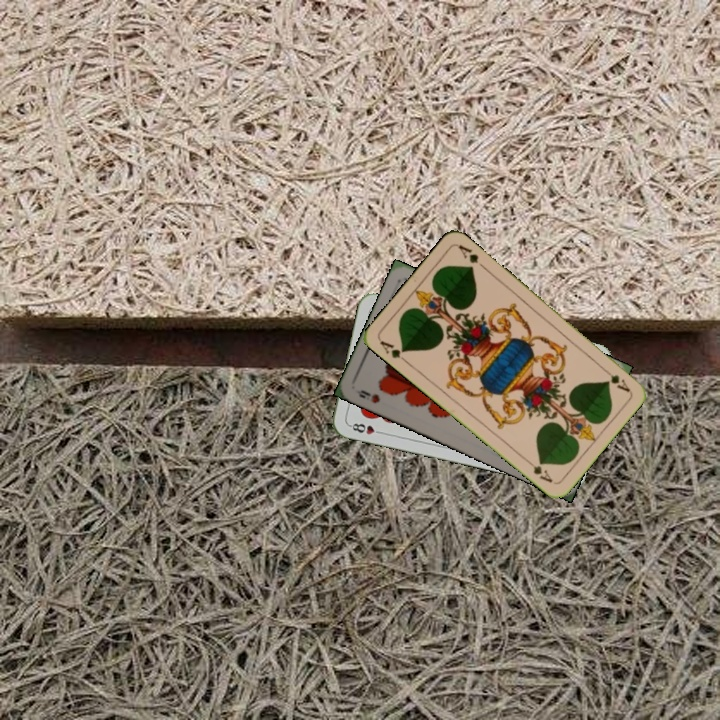GA: (598, 364, 632, 395), (376, 336, 411, 366)
H8: (346, 419, 386, 437)
H9: (355, 386, 383, 406)
